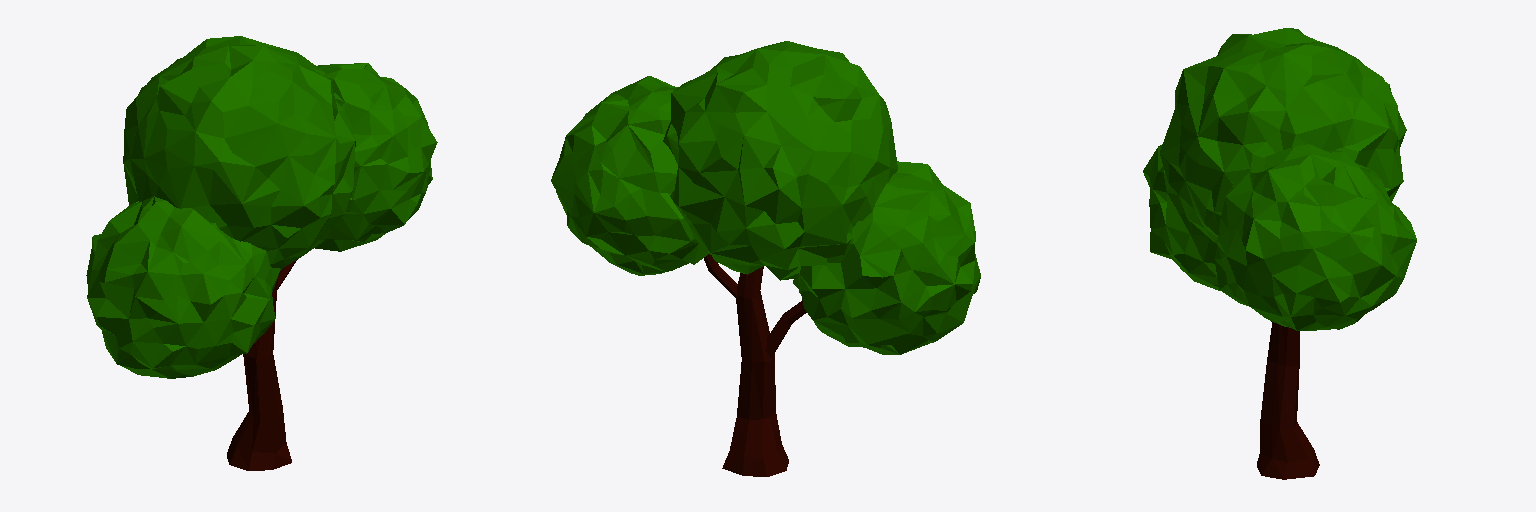
The model's file is Tree_2.obj.
3 views of the same model, side by side, from view 1: azimuth 30°, elevation 25°; view 2: azimuth 150°, elevation 25°; view 3: azimuth 270°, elevation 25° (orthographic).
Visible parts, largest first — view 1: Tree.2; view 2: Tree.2; view 3: Tree.2.
Boxes of the visible parts, <box> form: Tree.2: <box>86,36,437,470</box>; Tree.2: <box>551,41,980,476</box>; Tree.2: <box>1143,28,1416,479</box>.
Bounding box in the file's own units: 6.01 × 6.51 × 3.92.